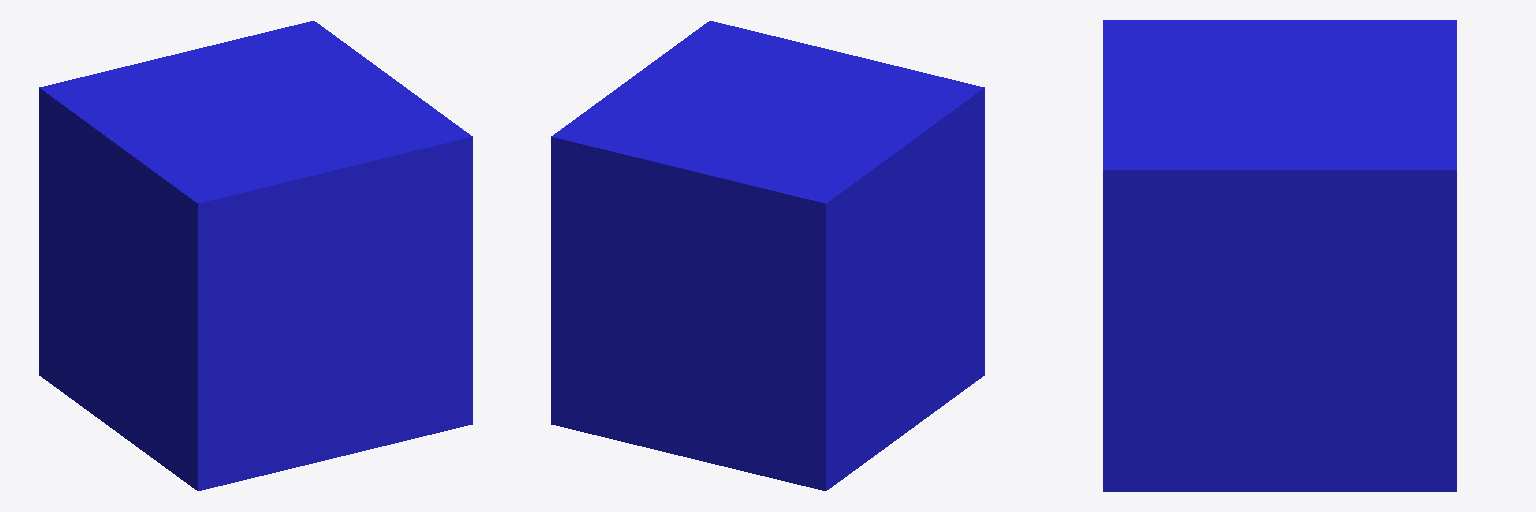
robot.urdf — box:
<?xml version="1.0"?>
<robot name="box">
  <material name="box_mat">
    <color rgba="0.2 0.2 0.9 1"/>
  </material>

  <link name="box_link">
    <inertial>
      <origin rpy="0 0 0" xyz="0 0 0"/>
      <mass value="0"/>
      <inertia ixx="0" ixy="0" ixz="0" iyy="0" iyz="0" izz="0"/>
    </inertial>
    <visual>
      <origin rpy="0 0 0" xyz="0 0 0.5"/>
      <geometry>
        <box size="1 1 1"/>
      </geometry>
      <material name="box_mat"/>
    </visual>
    <collision>
      <origin rpy="0 0 0" xyz="0 0 0.5"/>
      <geometry>
        <box size="1 1 1"/>
      </geometry>
    </collision>
  </link>
  
</robot>

--- Render facts (derived) ---
The picture shows the robot from 3 angles, left to right: view 1: azimuth 30°, elevation 25°; view 2: azimuth 150°, elevation 25°; view 3: azimuth 270°, elevation 25°; orthographic projection.
Model box with 1 links and 0 joints (none), rooted at box_link, posed every joint at zero.
Visible links, largest first — view 1: box_link; view 2: box_link; view 3: box_link.
Link boxes in pixels (<box>): box_link: <box>39,21,472,490</box>; box_link: <box>551,21,984,490</box>; box_link: <box>1103,20,1456,491</box>.
Bounding box of the posed robot: 1 × 1 × 1 m (x, y, z).
Geometry: primitives only (box / cylinder / sphere), no mesh files.